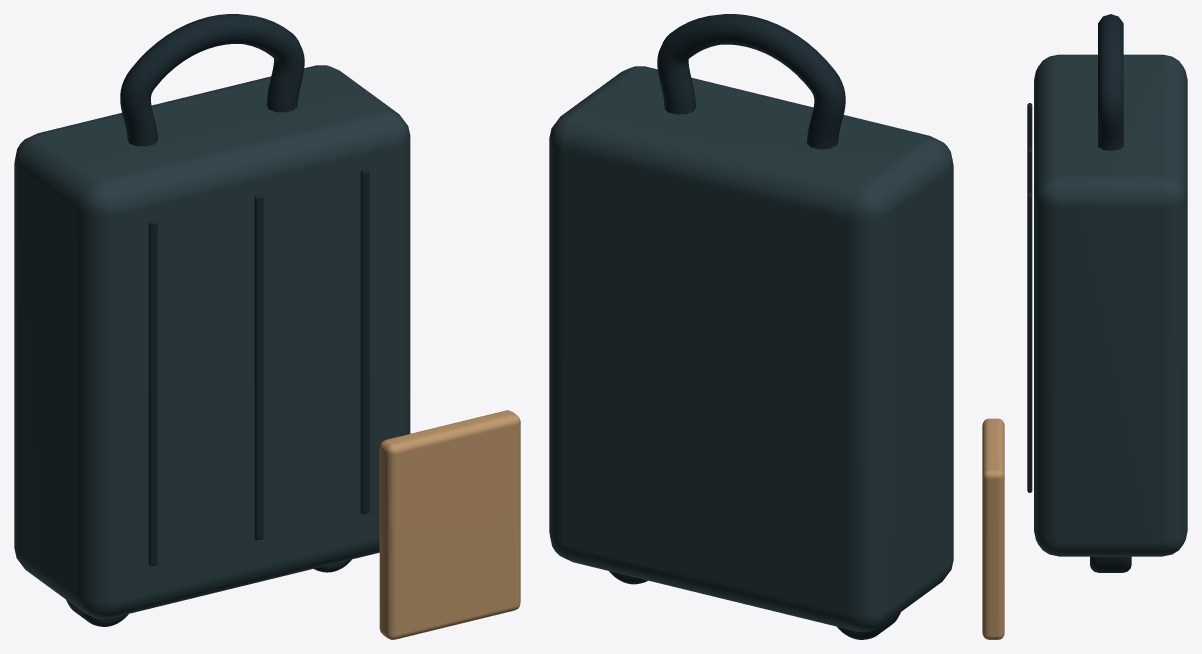
File: entry-travel.glb
The picture shows the model from 3 angles, left to right: view 1: azimuth 30°, elevation 25°; view 2: azimuth 150°, elevation 25°; view 3: azimuth 270°, elevation 25°; orthographic projection. The views are drawn at different scales.
Visible parts, largest first — view 1: Structured travel case, Blank travel document, Luggage carry handle, Case stitched rib.001, Case stitched rib, Case stitched rib.002; view 2: Structured travel case, Luggage carry handle; view 3: Structured travel case, Blank travel document, Luggage carry handle, Case stitched rib.002, Case wheel.001.
Part boxes in pixels (x1,y1,x2,y2): Structured travel case: [14, 65, 410, 618]; Blank travel document: [379, 410, 520, 639]; Luggage carry handle: [120, 14, 304, 146]; Case stitched rib.001: [254, 194, 263, 540]; Case stitched rib: [148, 220, 157, 566]; Case stitched rib.002: [360, 168, 369, 514]; Structured travel case: [549, 66, 953, 631]; Luggage carry handle: [657, 14, 845, 149]; Structured travel case: [1034, 54, 1187, 556]; Blank travel document: [982, 418, 1004, 639]; Luggage carry handle: [1098, 14, 1123, 150]; Case stitched rib.002: [1027, 192, 1032, 492]; Case wheel.001: [1090, 556, 1131, 572].
Bounding box in the file's own units: 2.41 × 3.43 × 1.23.
